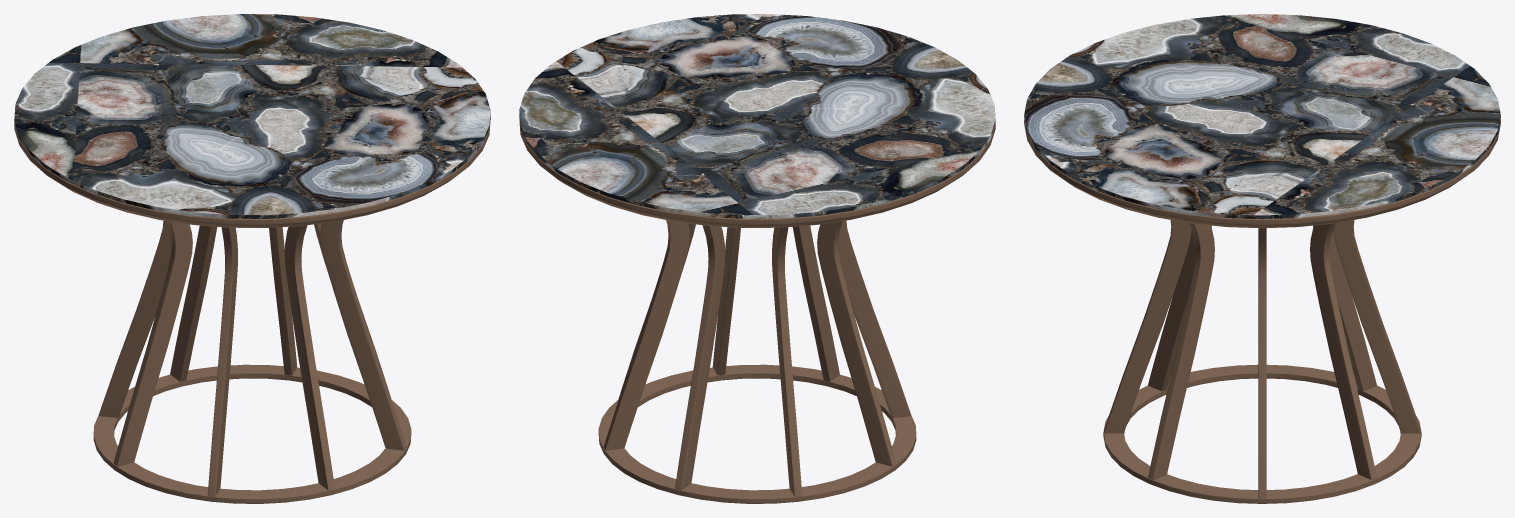
Rendered from SBH_SPIN_B.glb.
3 renders of one model, left to right at view 1: azimuth 30°, elevation 25°; view 2: azimuth 150°, elevation 25°; view 3: azimuth 270°, elevation 25°, orthographic.
Visible parts, largest first — view 1: SPIN_B; view 2: SPIN_B; view 3: SPIN_B.
Part boxes in pixels (x1=…): SPIN_B: x1=14, y1=14, x2=490, y2=503; SPIN_B: x1=519, y1=14, x2=995, y2=503; SPIN_B: x1=1024, y1=14, x2=1500, y2=503.
Bounding box in the file's own units: 0.6027 × 0.4499 × 0.6027.
Materials: 2 (1 with a texture image).
